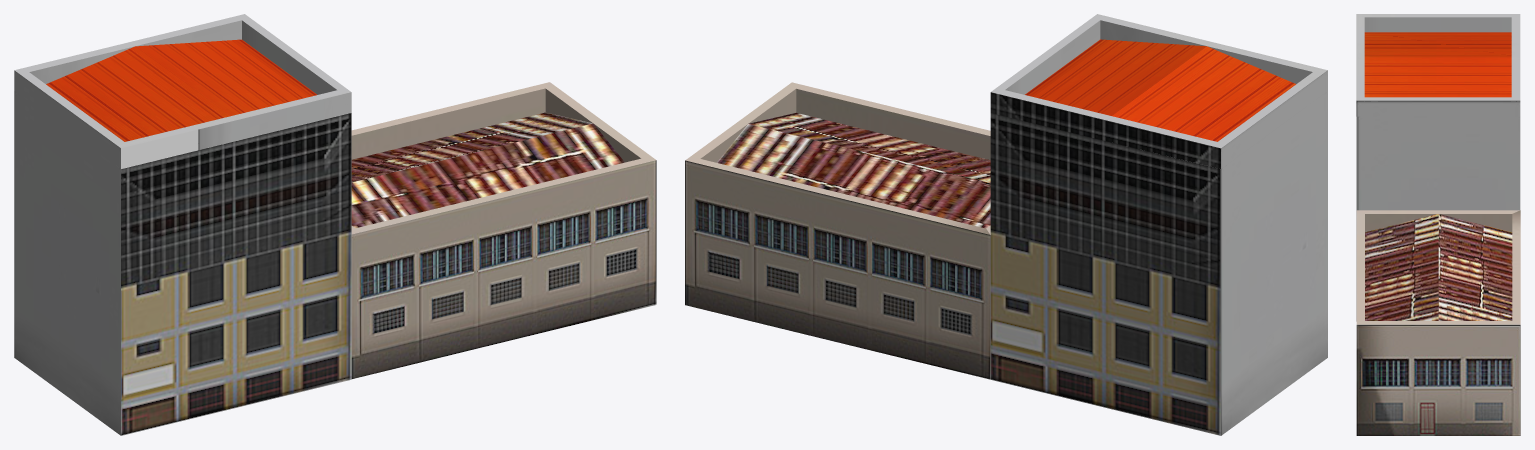
The model's file is monoblockbloqueizquierdo.fbx.
3 views of the same model, side by side, from view 1: azimuth 30°, elevation 25°; view 2: azimuth 150°, elevation 25°; view 3: azimuth 270°, elevation 25° (orthographic). The views are drawn at different scales.
Visible parts, largest first — view 1: Cube.008; view 2: Cube.008; view 3: Cube.008.
Part boxes in pixels (x1=…): Cube.008: x1=14, y1=14, x2=656, y2=435; Cube.008: x1=685, y1=14, x2=1327, y2=435; Cube.008: x1=1356, y1=14, x2=1520, y2=435.
Size of the model in its own units: 579 by 297 by 200.
4 materials, 4 textured.
